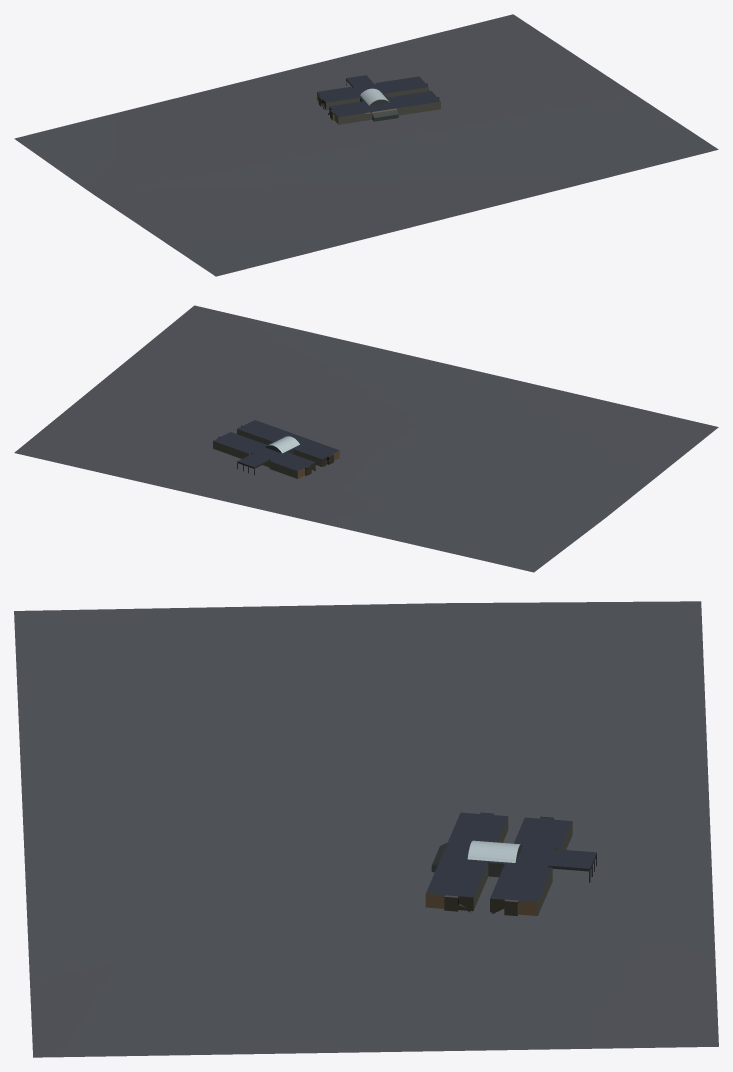
File: chattanooga-choo-choo-hotel-1.glb
3 views of the same model, one above another, from view 1: azimuth 30°, elevation 25°; view 2: azimuth 150°, elevation 25°; view 3: azimuth 270°, elevation 25° (orthographic). The views are drawn at different scales.
Parts seen in each view (by area): view 1: LOD0; view 2: LOD0; view 3: LOD0.
Part boxes in pixels (box(x1,y1,x2,y2)): LOD0: box(14, 14, 718, 276); LOD0: box(14, 305, 718, 572); LOD0: box(14, 601, 718, 1057).
Size of what is drawn, in the model's own units: 431 by 11.68 by 283.
Materials: 2 (2 with a texture image).
